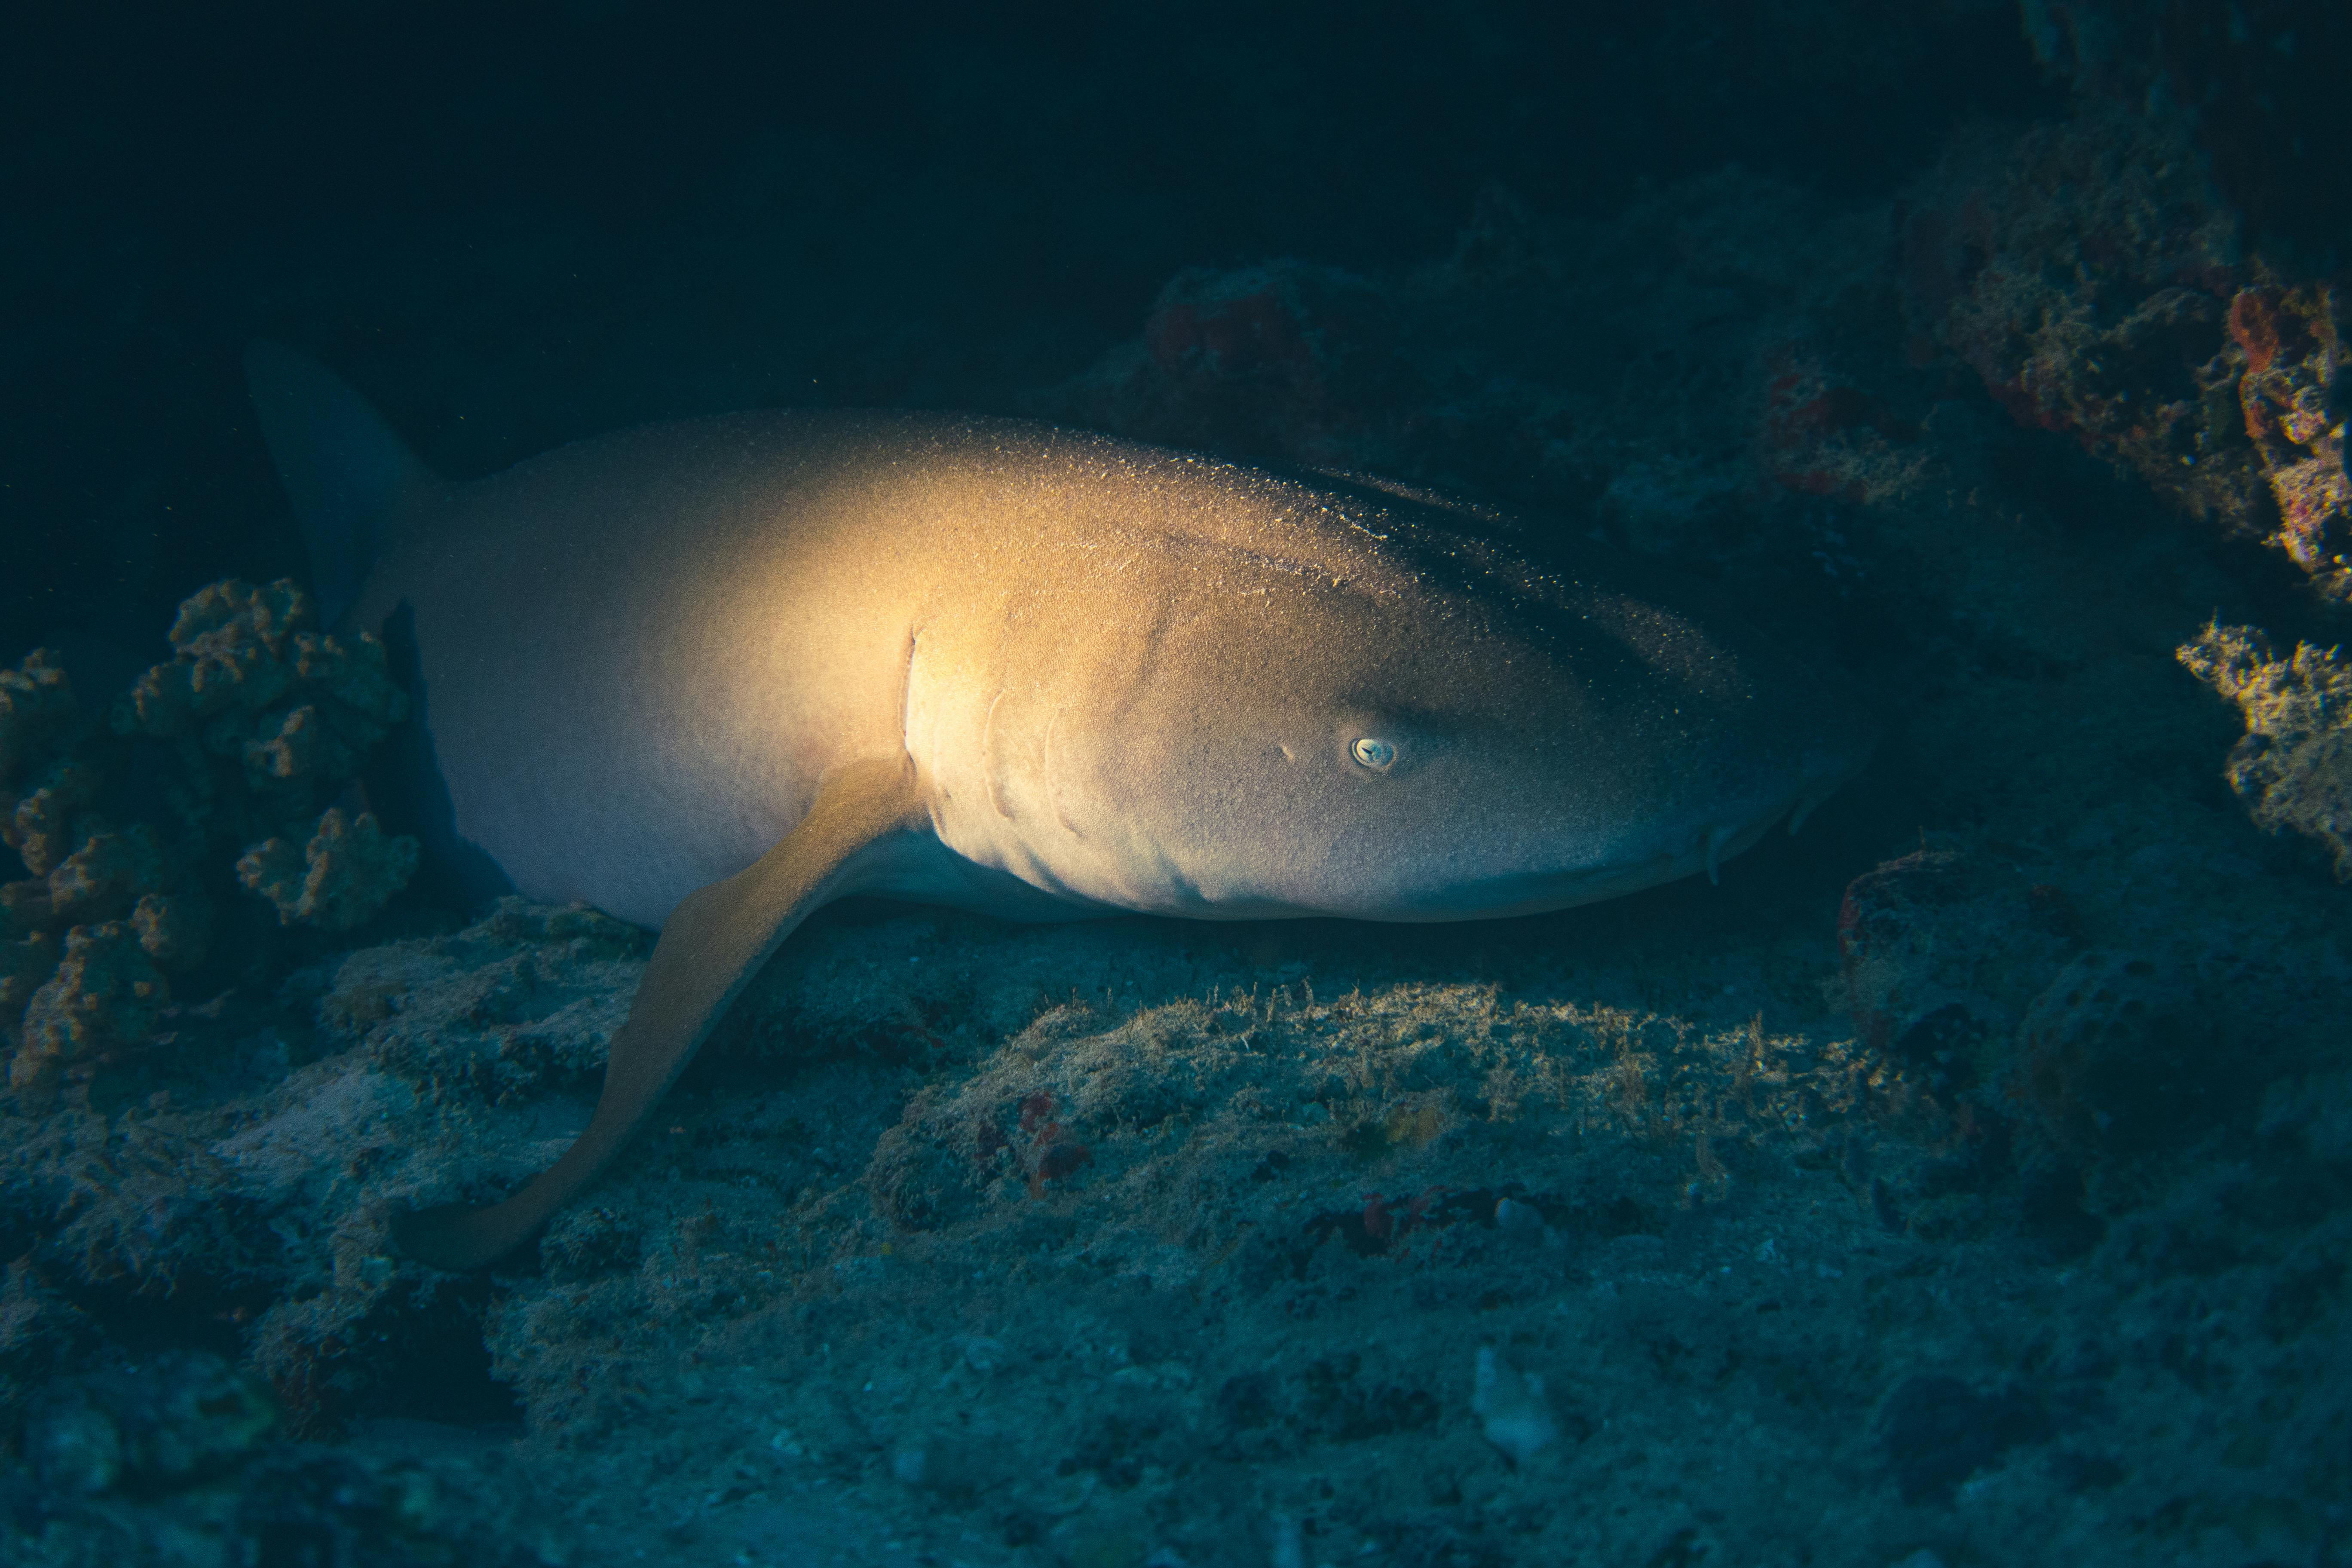shark: (229, 320, 1895, 1277)
